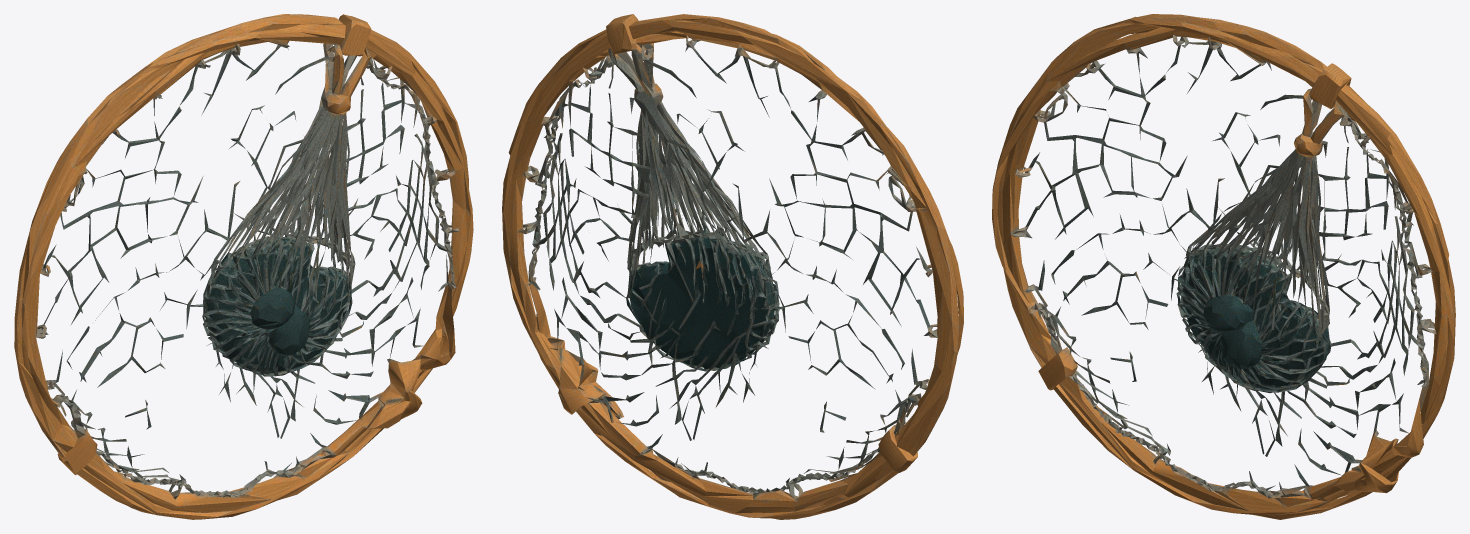
The model's file is net.glb.
The picture shows the model from 3 angles, left to right: view 1: azimuth 30°, elevation 25°; view 2: azimuth 150°, elevation 25°; view 3: azimuth 330°, elevation 25°; orthographic projection.
Bounding box in the file's own units: 0.52 × 0.5355 × 0.0614.
Materials: 1 (1 with a texture image).
